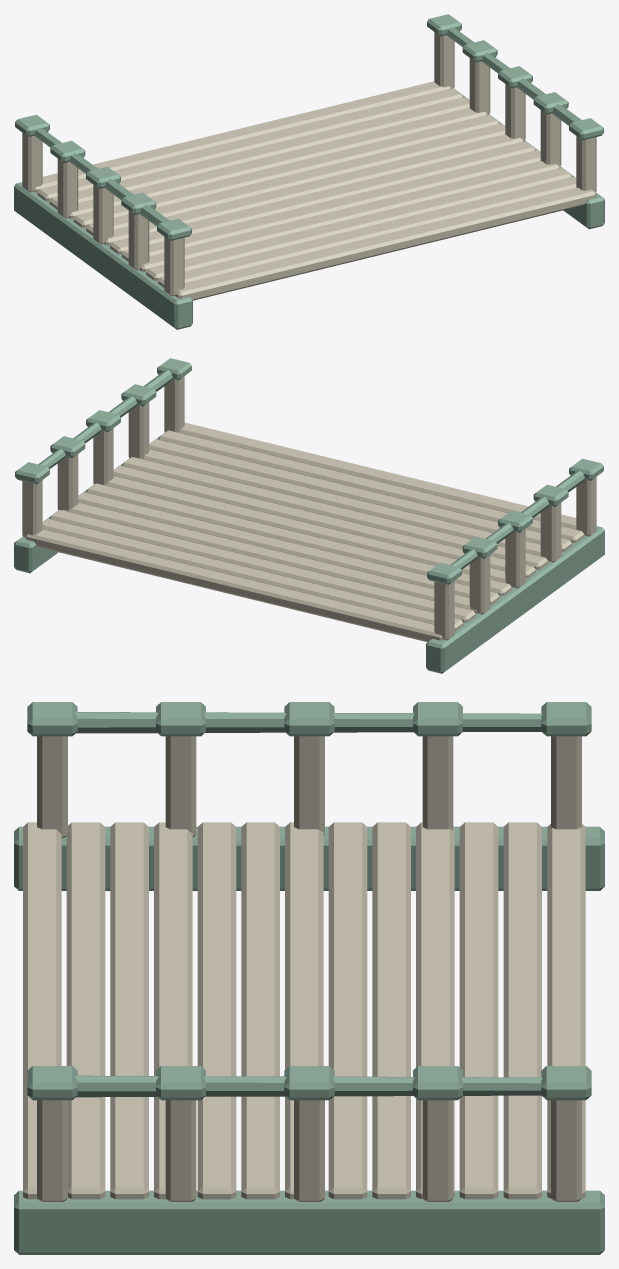
File: hd2d-bridge.glb
3 renders of one model, top to bottom at view 1: azimuth 30°, elevation 25°; view 2: azimuth 150°, elevation 25°; view 3: azimuth 270°, elevation 25°, orthographic. The views are drawn at different scales.
Parts seen in each view (by area): view 1: BridgePaver, BridgeSide, BridgePaver.002, BridgePaver.001, BridgePaver.003, BridgePaver.004, BridgePaver.008, BridgePaver.005, BridgePaver.011, BridgePaver.010, BridgePaver.007, BridgePaver.009 (+25 smaller); view 2: BridgePaver.012, BridgeSide, BridgePaver.010, BridgePaver.011, BridgePaver.009, BridgePaver.008, BridgePaver.004, BridgePaver.001, BridgePaver.007, BridgePaver.005, BridgePaver.002, BridgePaver.003 (+25 smaller); view 3: BridgeSide.001, BridgePaver.010, BridgePaver.007, BridgePaver.004, BridgePaver.011, BridgePaver.008, BridgePaver.005, BridgePaver.001, BridgePaver.002, BridgePaver, BridgePaver.003, BridgePaver.006 (+25 smaller).
Boxes of the visible parts, x1,y1,x2,y2 form: BridgePaver: (175, 187, 596, 300); BridgeSide: (14, 182, 192, 329); BridgePaver.002: (146, 168, 572, 280); BridgePaver.001: (158, 177, 576, 287); BridgePaver.003: (139, 161, 559, 271); BridgePaver.004: (122, 150, 540, 261); BridgePaver.008: (73, 115, 499, 227); BridgePaver.005: (110, 141, 535, 254); BridgePaver.011: (37, 88, 463, 201); BridgePaver.010: (49, 97, 469, 209); BridgePaver.007: (86, 124, 505, 235); BridgePaver.009: (68, 108, 487, 218); BridgePaver.012: (25, 529, 443, 642); BridgeSide: (426, 526, 604, 673); BridgePaver.010: (49, 510, 475, 622); BridgePaver.011: (42, 519, 463, 631); BridgePaver.009: (62, 502, 477, 613); BridgePaver.008: (78, 492, 499, 604); BridgePaver.004: (122, 457, 547, 569); BridgePaver.001: (158, 430, 584, 543); BridgePaver.007: (86, 483, 511, 596); BridgePaver.005: (113, 465, 535, 578); BridgePaver.002: (149, 439, 572, 551); BridgePaver.003: (143, 449, 540, 556); BridgeSide.001: (14, 1190, 604, 1254); BridgePaver.010: (459, 822, 498, 1199); BridgePaver.007: (328, 822, 367, 1199); BridgePaver.004: (197, 822, 236, 1199); BridgePaver.011: (503, 822, 541, 1199); BridgePaver.008: (372, 822, 410, 1199); BridgePaver.005: (241, 822, 279, 1199); BridgePaver.001: (66, 822, 105, 1199); BridgePaver.002: (110, 822, 148, 1199); BridgePaver: (23, 822, 61, 1199); BridgePaver.003: (154, 822, 192, 1199); BridgePaver.006: (285, 822, 323, 1199).
Bounding box in the file's own units: 7.09 × 1.5 × 4.6.
